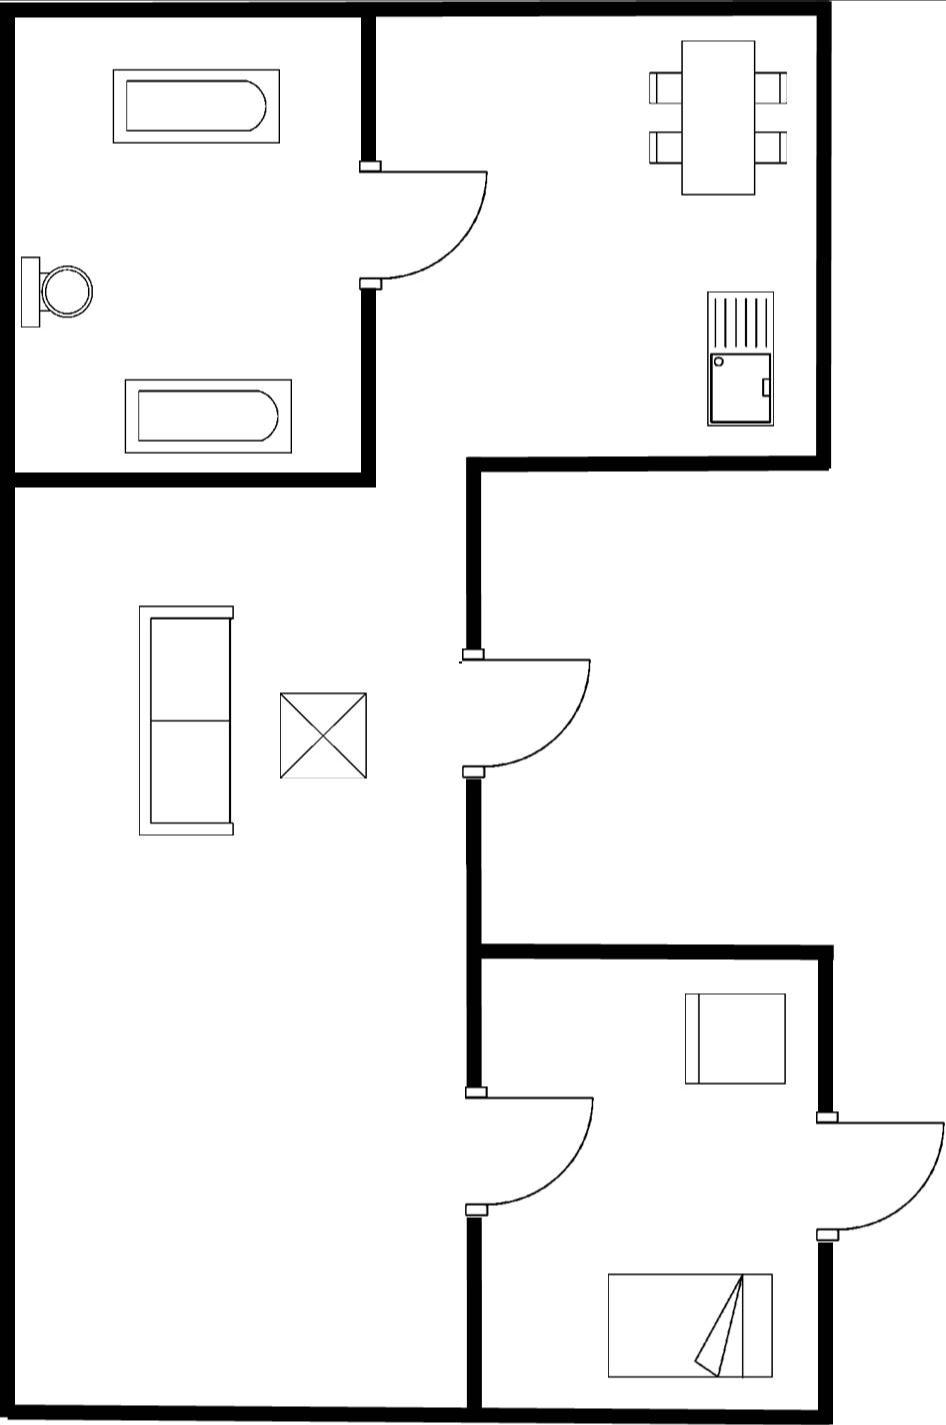bed: (600, 1265, 783, 1386)
dining_table: (639, 28, 796, 205)
sink: (697, 283, 782, 432)
sofa: (126, 595, 248, 843)
toilet: (19, 244, 96, 336)
tub: (105, 62, 289, 151), (118, 369, 301, 458)
